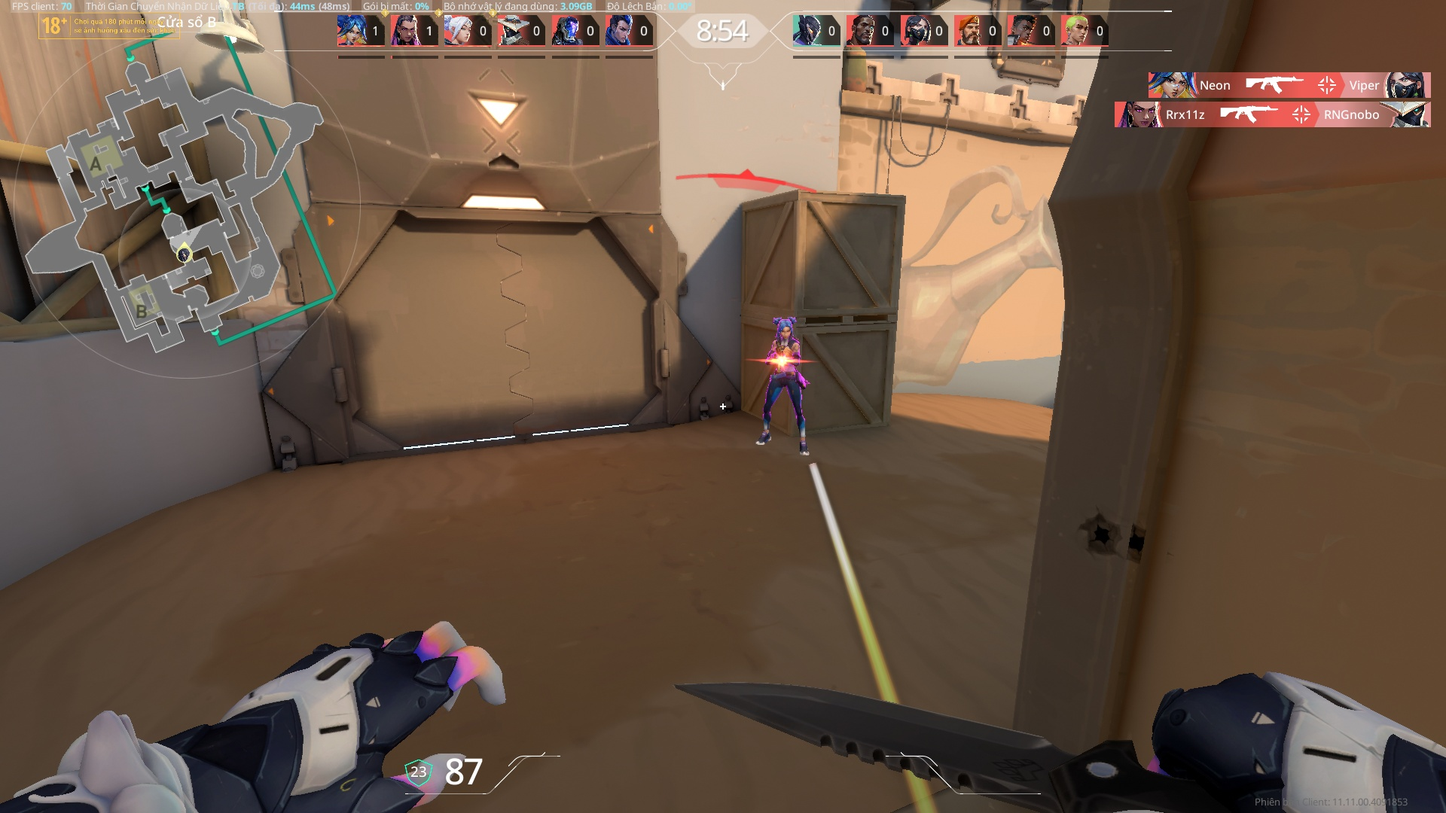body: (773, 333, 808, 376)
head: (773, 314, 798, 333)
